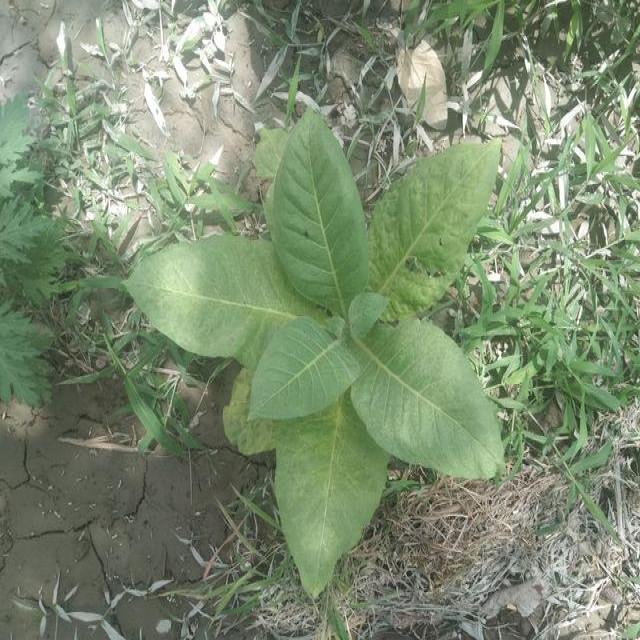crop: (125, 110, 510, 590)
